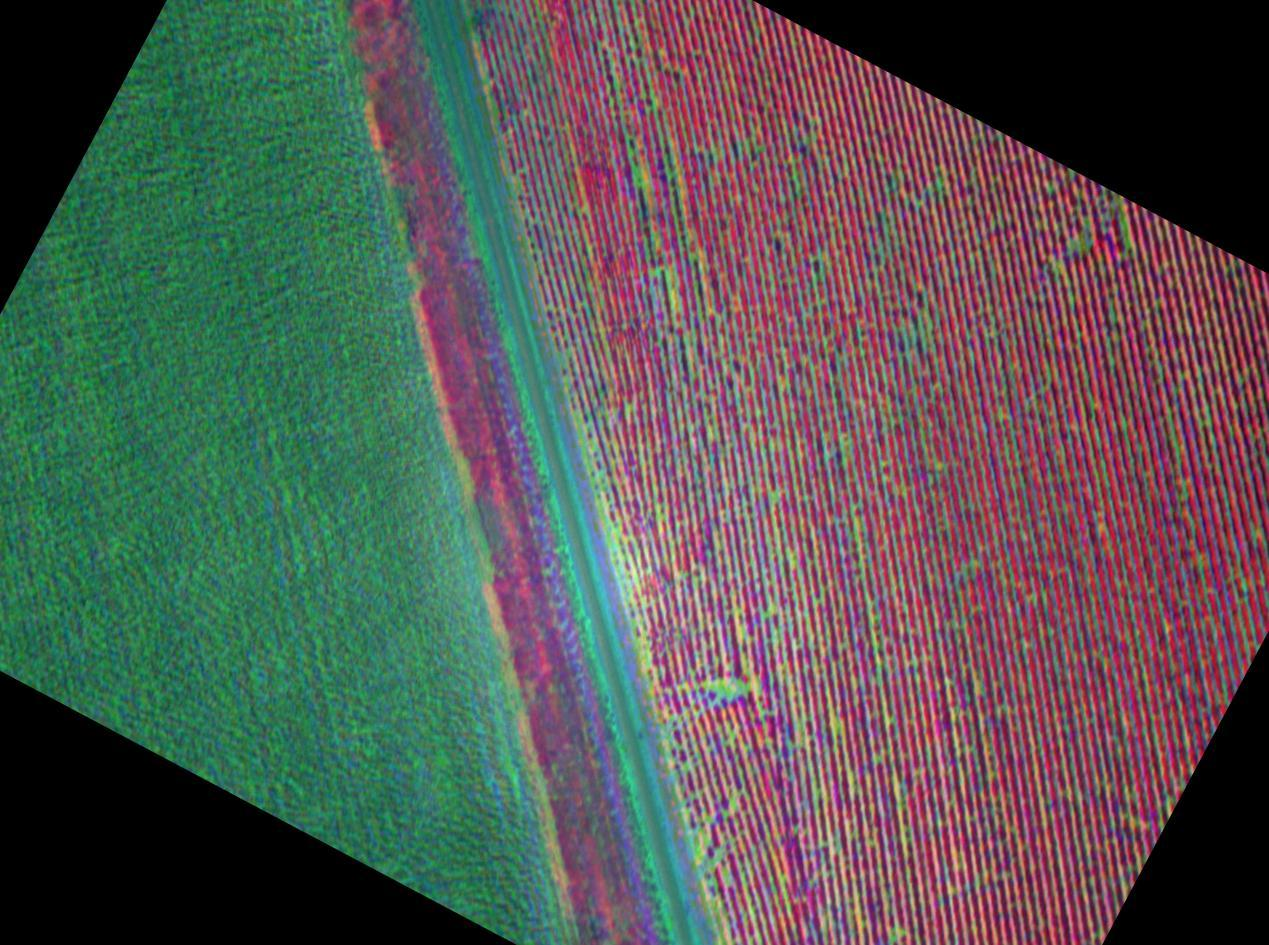dc: (696, 849, 701, 856), (813, 790, 817, 795), (1077, 243, 1081, 247), (655, 271, 659, 275), (625, 407, 629, 411), (707, 818, 711, 822), (1124, 228, 1127, 232)
